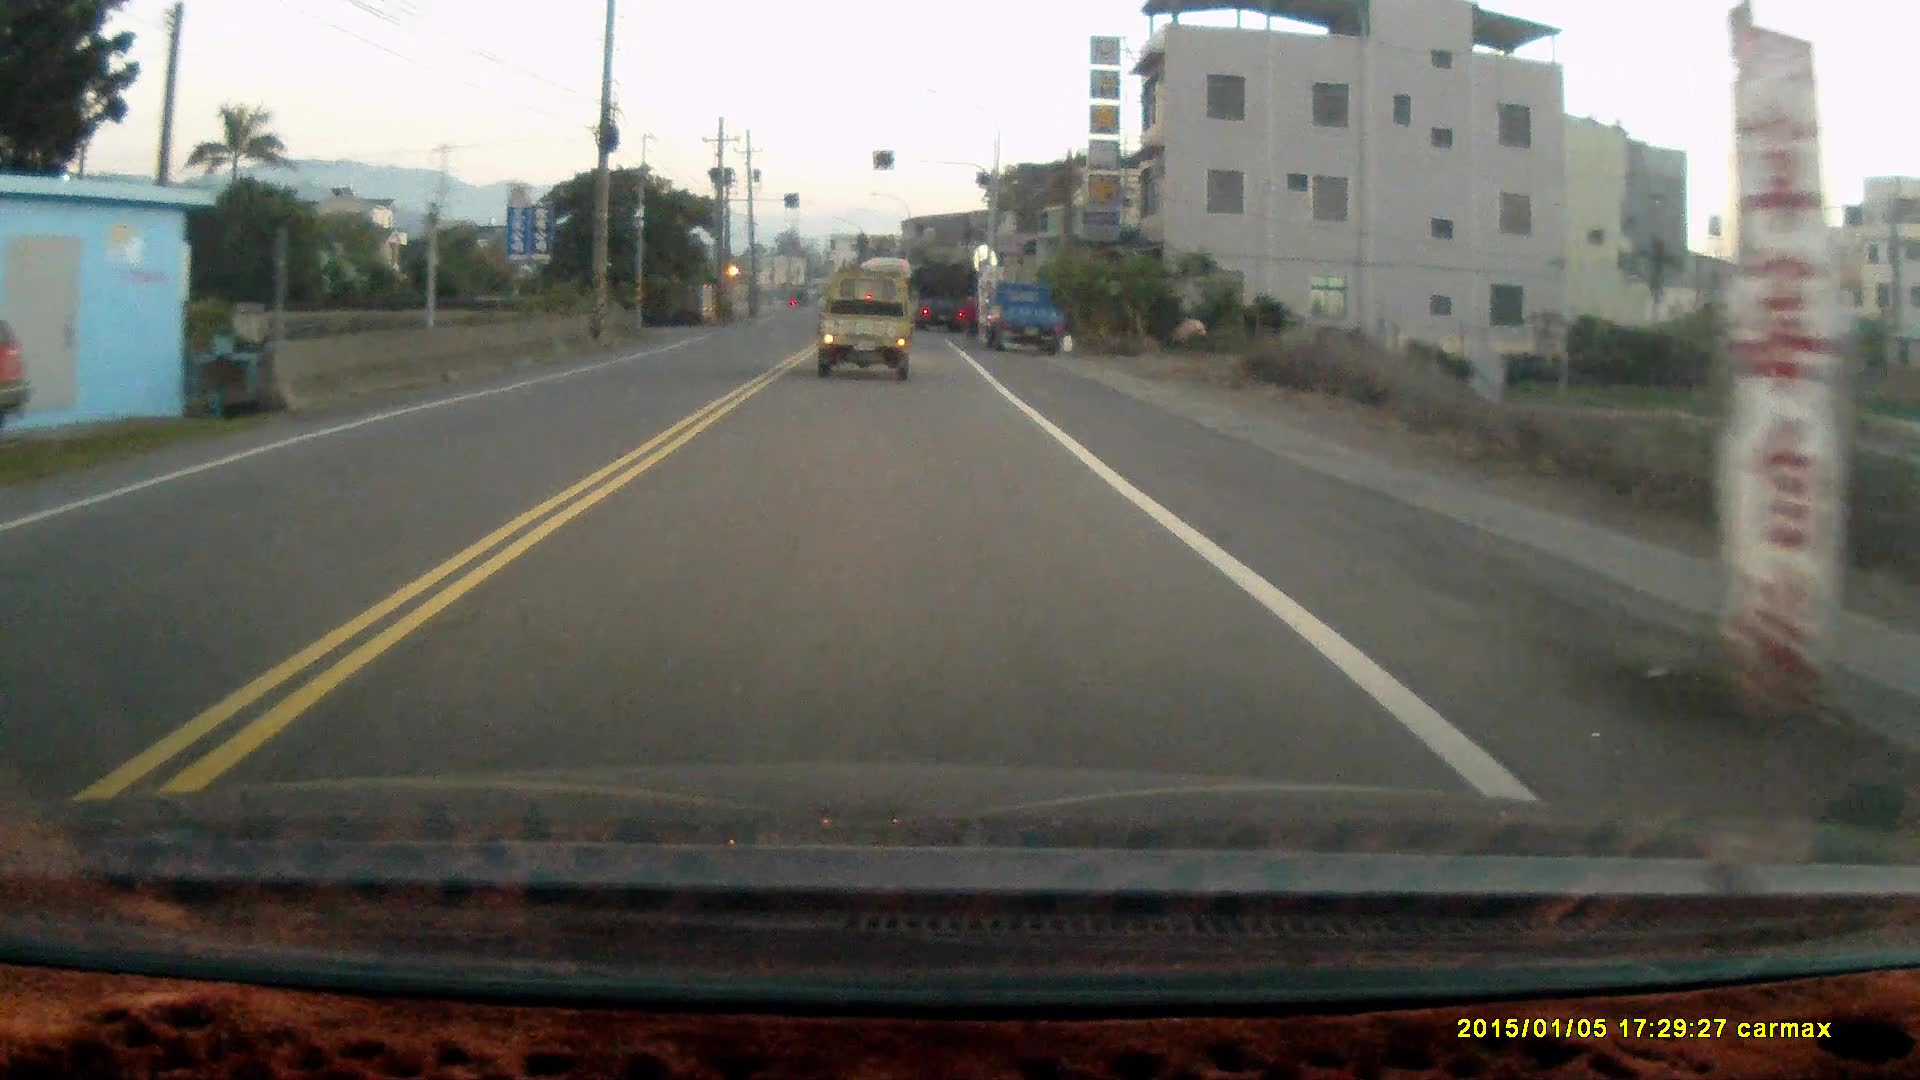vehicle: (814, 273, 916, 382), (978, 276, 1076, 353), (913, 261, 982, 332)
